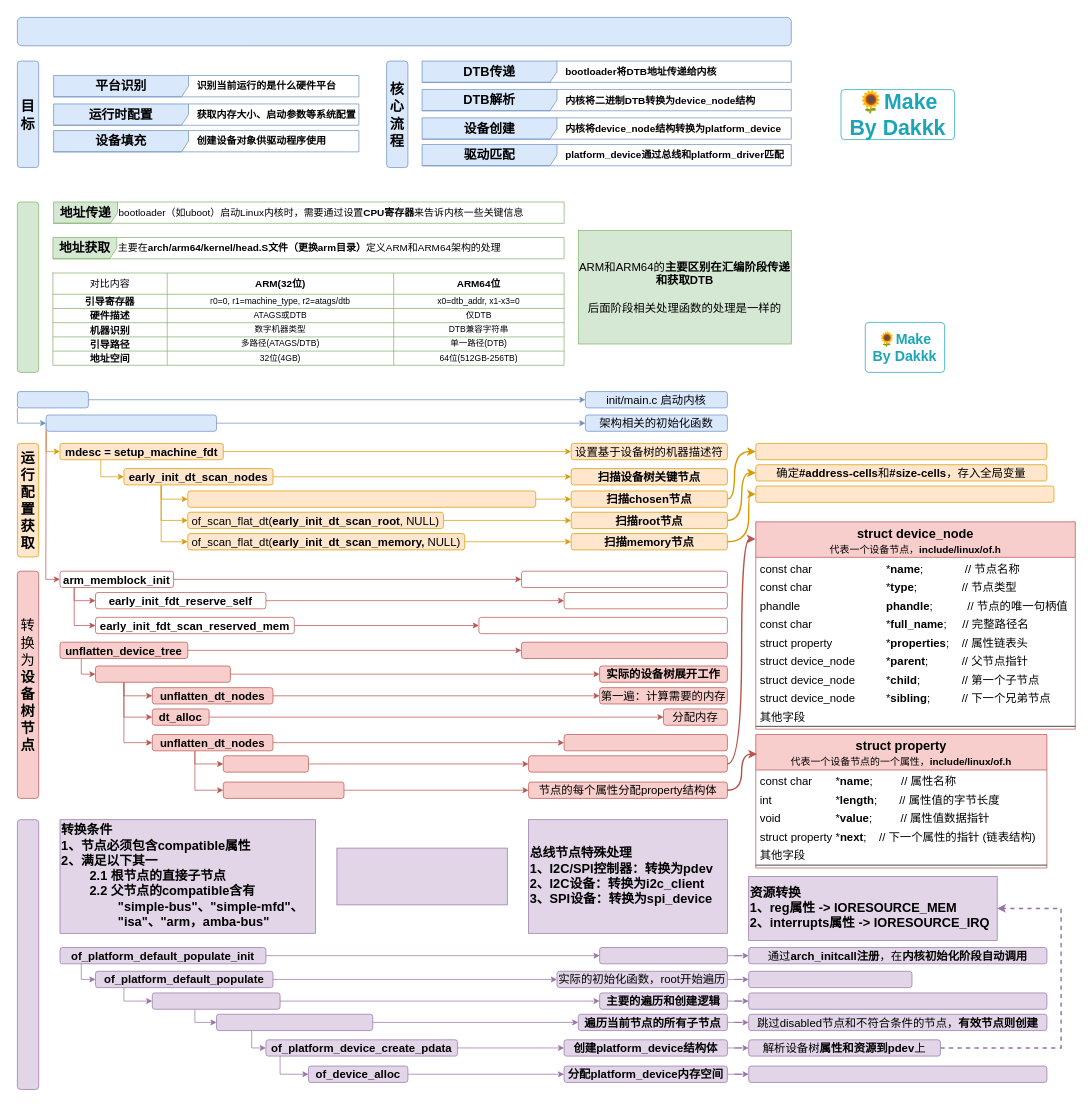
Image size: 1088x1105. Some labels were removed from this diagram. Here are the shapes that lost their labels. From the top down, the centre of each, then its label:
the point at 404,31: 内核处理DTB文件的流程（基于ARM VS ARM64）
the point at 28,286: 传递与获取
the point at 52,399: start_kernel
the point at 131,422: setup_arch(&command_line)
the point at 901,451: 提取 bootargs属性 ，存入全局变量boot_command_line
the point at 361,498: of_scan_flat_dt( early_init_dt_scan_chosen , boot_command_line)
the point at 904,493: 解析 reg属性 ，提取 base和size 信息，调用 memblock_add
the point at 624,579: 初始化内存块管理，设置内存保留区域
the point at 645,600: 保留DTB自身占用的内存区域
the point at 602,625: 扫描设备树中的memreserve节点，预留内存区
the point at 624,650: 核心：将fdt转换为device_node
the point at 162,673: __unflatten_device_tree
the point at 645,742: 第二遍：构建node并填充内存
the point at 265,763: populate_node
the point at 627,763: 每个设备节点分配device_node结构体
the point at 283,789: populate_properties
the point at 421,876: 下面只分析node转换为pdev i2c、spi和bus的转换不分析
the point at 28,954: 转换为 平台设备
the point at 663,955: 系统初始化时的调入点
the point at 830,979: 准备默认的匹配表和父设备
the point at 216,1000: of_platform_populate
the point at 897,1000: 检查 节点是否需要创建pdev， 递归处理子节点 的遍历
the point at 294,1022: for_each_child_of_node
the point at 897,1073: 设置设备基本属性， 注册设备到bus中（触发match）
